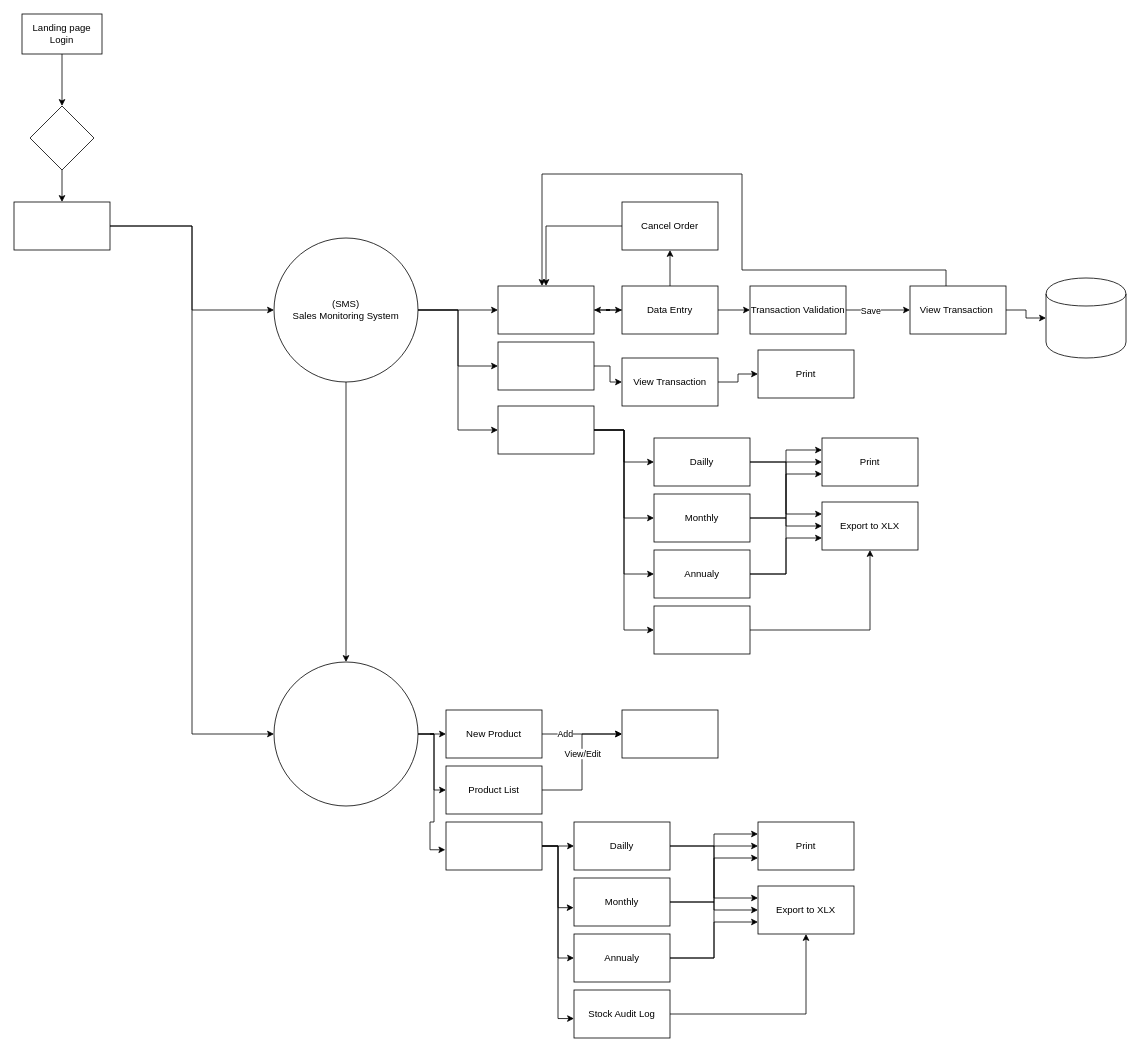
This 1140x1052 diagram has some shape labels left out. The centre of each missing label's shape, as x and y in pixels:
"Check Role Permission" belongs at (x=61, y=225).
"Database" belongs at (x=1085, y=317).
"If Valid" belongs at (x=61, y=137).
"New Transaction" belongs at (x=545, y=309).
"Product Information" belongs at (x=669, y=733).
"Reports" belongs at (x=545, y=429).
"Reports (optional)" belongs at (x=493, y=845).
"Stock Control" belongs at (x=345, y=733).
"Transaction Audit Log" belongs at (x=701, y=629).
"Transaction List" belongs at (x=545, y=365).
